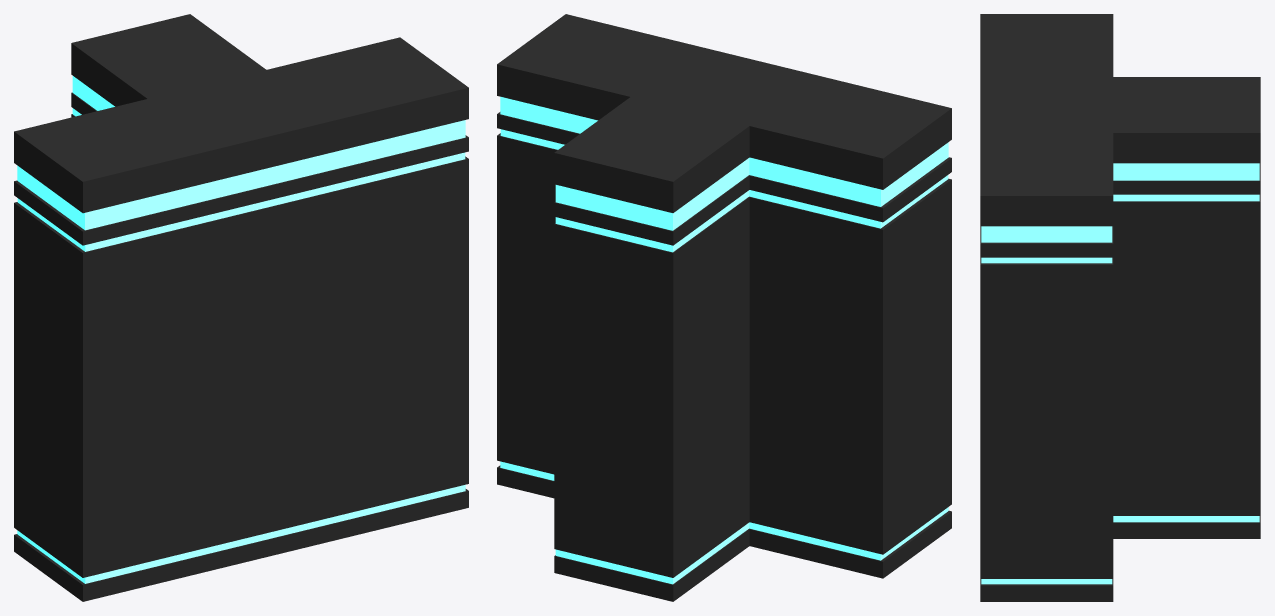
File: T Wall 3L.fbx
3 renders of one model, left to right at view 1: azimuth 30°, elevation 25°; view 2: azimuth 150°, elevation 25°; view 3: azimuth 270°, elevation 25°, orthographic. The views are drawn at different scales.
Parts seen in each view (by area): view 1: T Wall 3L; view 2: T Wall 3L; view 3: T Wall 3L.
Boxes of the visible parts, x1,y1,x2,y2 form: T Wall 3L: (14,14,468,601); T Wall 3L: (497,14,951,601); T Wall 3L: (980,14,1260,601).
Size of the model in its own units: 629 by 410 by 654.
